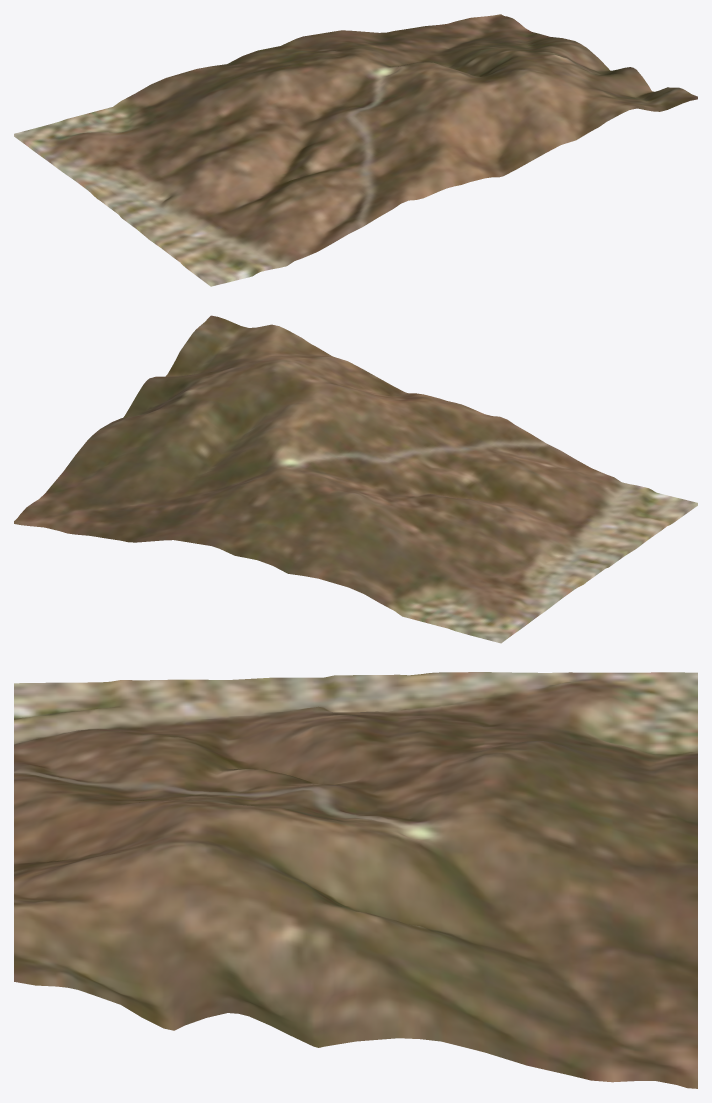
The model's file is terrain_r1_c5_lod1.glb.
3 views of the same model, one above another, from view 1: azimuth 30°, elevation 25°; view 2: azimuth 150°, elevation 25°; view 3: azimuth 270°, elevation 25° (orthographic). The views are drawn at different scales.
Parts seen in each view (by area): view 1: terrain_r1_c5_lod1; view 2: terrain_r1_c5_lod1; view 3: terrain_r1_c5_lod1.
Part boxes in pixels (x1,y1,x2,y2): terrain_r1_c5_lod1: (14, 14, 697, 286); terrain_r1_c5_lod1: (14, 315, 697, 643); terrain_r1_c5_lod1: (14, 672, 697, 1088).
Size of the model in its own units: 1125 by 194 by 787.
1 material, 1 textured.
